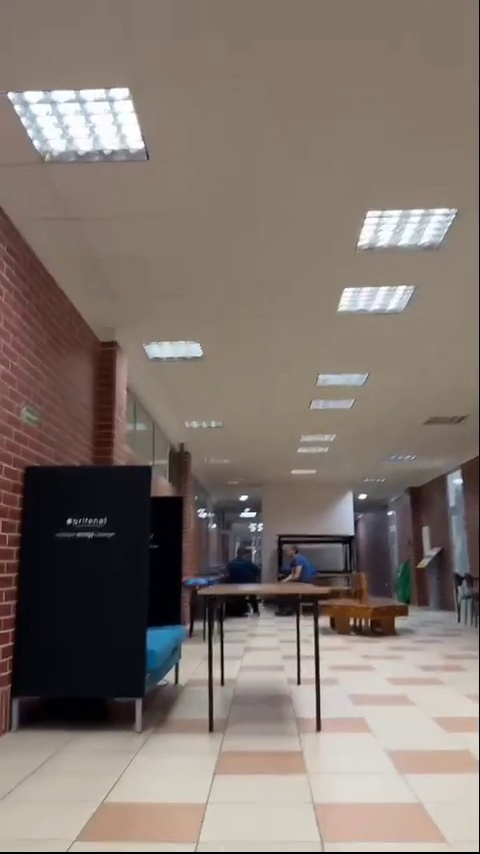drone: (183, 578, 214, 589)
no vest: (230, 546, 260, 584), (288, 543, 309, 581)
